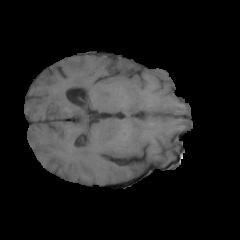glioma: (59, 56, 136, 112)
